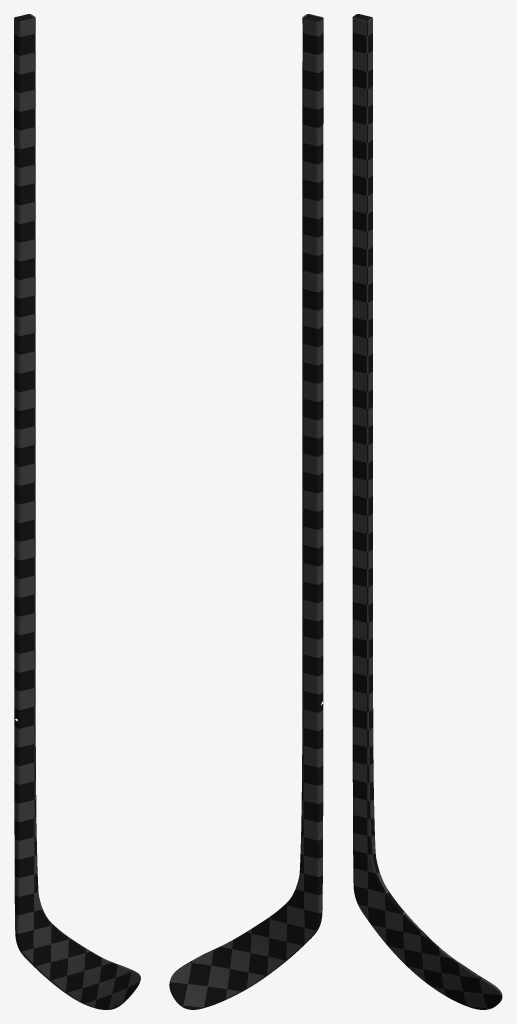
The picture shows the model from 3 angles, left to right: view 1: azimuth 30°, elevation 25°; view 2: azimuth 150°, elevation 25°; view 3: azimuth 330°, elevation 25°; orthographic projection. The views are drawn at different scales.
Parts seen in each view (by area): view 1: geometry_0; view 2: geometry_0; view 3: geometry_0.
Boxes of the visible parts, x1=… form: geometry_0: x1=14, y1=14, x2=140, y2=1009; geometry_0: x1=169, y1=14, x2=323, y2=1009; geometry_0: x1=352, y1=14, x2=502, y2=1009.
Bounding box in the file's own units: 235 × 1650 × 63.78.
Materials: 1 (1 with a texture image).
